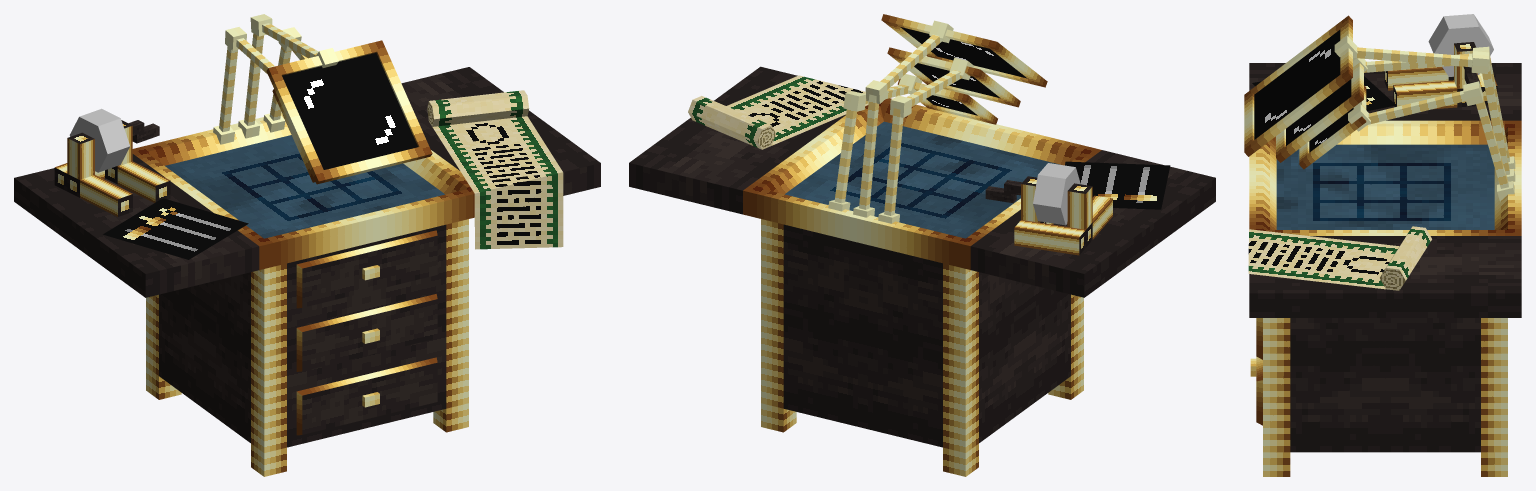
Rendered from gemcutters_table.obj.
3 renders of one model, left to right at view 1: azimuth 30°, elevation 25°; view 2: azimuth 150°, elevation 25°; view 3: azimuth 270°, elevation 25°, orthographic. The views are drawn at different scales.
Parts seen in each view (by area): view 1: desktop, lens_l, scroll, crafting_surface, grindstone_holder_grindstone, tools, grindstone_grindstone.001, arm_shoulder_m, arm_shoulder_l, arm_elbow_l, arm_elbow_m, arm_shoulder_s; view 2: desktop, crafting_surface, scroll, grindstone_holder_grindstone, lens_l, tools, lens_m, grindstone_grindstone.001, lens_s, arm_shoulder_l, arm_shoulder_m, arm_shoulder_s (+2 smaller); view 3: desktop, crafting_surface, scroll, lens_l, grindstone_holder_grindstone, lens_m, grindstone_grindstone.001, lens_s, arm_elbow_l, arm_elbow_s, arm_shoulder_s, arm_shoulder_l (+3 smaller).
Boxes of the visible parts, bbox=[...] form: desktop: bbox=[14, 67, 600, 476]; lens_l: bbox=[266, 40, 432, 184]; scroll: bbox=[427, 90, 563, 249]; crafting_surface: bbox=[165, 135, 444, 238]; grindstone_holder_grindstone: bbox=[54, 120, 170, 216]; tools: bbox=[103, 198, 248, 259]; grindstone_grindstone.001: bbox=[69, 108, 130, 172]; arm_shoulder_m: bbox=[213, 46, 237, 144]; arm_shoulder_l: bbox=[238, 33, 263, 138]; arm_elbow_l: bbox=[250, 14, 318, 58]; arm_elbow_m: bbox=[225, 27, 274, 74]; arm_shoulder_s: bbox=[263, 46, 291, 132]; desktop: bbox=[629, 66, 1215, 476]; crafting_surface: bbox=[785, 121, 1059, 238]; scroll: bbox=[688, 75, 868, 149]; grindstone_holder_grindstone: bbox=[985, 176, 1112, 255]; lens_l: bbox=[881, 14, 1047, 87]; tools: bbox=[1065, 161, 1170, 209]; lens_m: bbox=[887, 47, 1020, 107]; grindstone_grindstone.001: bbox=[1033, 163, 1080, 225]; lens_s: bbox=[897, 74, 997, 124]; arm_shoulder_l: bbox=[853, 94, 878, 217]; arm_shoulder_m: bbox=[878, 108, 903, 223]; arm_shoulder_s: bbox=[828, 101, 856, 211]; desktop: bbox=[1249, 63, 1521, 476]; crafting_surface: bbox=[1276, 144, 1494, 229]; scroll: bbox=[1248, 226, 1431, 290]; lens_l: bbox=[1244, 15, 1357, 156]; grindstone_holder_grindstone: bbox=[1384, 42, 1497, 109]; lens_m: bbox=[1276, 58, 1367, 162]; grindstone_grindstone.001: bbox=[1428, 14, 1493, 76]; lens_s: bbox=[1299, 85, 1370, 169]; arm_elbow_l: bbox=[1353, 47, 1489, 73]; arm_elbow_s: bbox=[1368, 81, 1483, 124]; arm_shoulder_s: bbox=[1476, 91, 1514, 201]; arm_shoulder_l: bbox=[1482, 64, 1515, 184].
Size of the model in its own units: 1.97 by 1.54 by 1.
